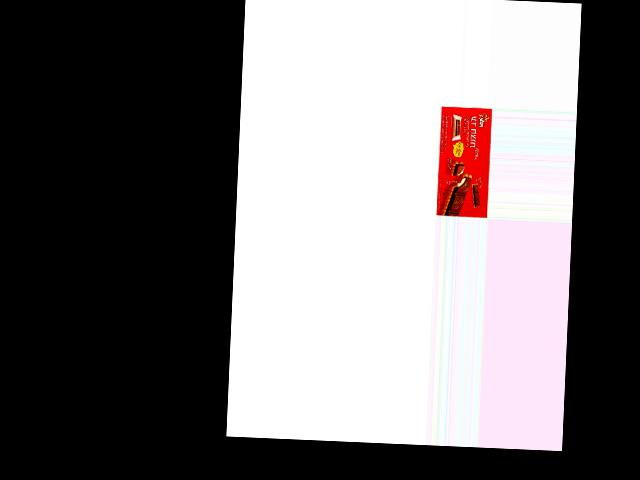chocolate: (436, 104, 492, 218)
